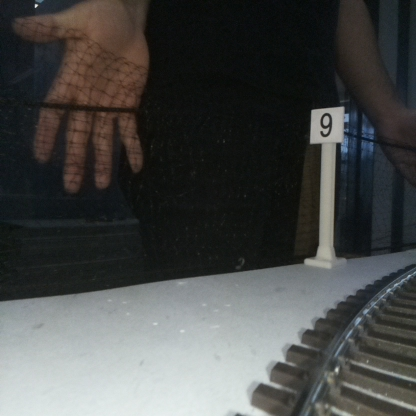white-info-9: (310, 106, 343, 262)
